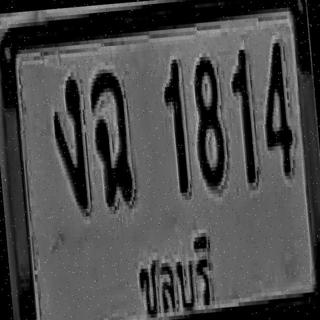A07: (50, 76, 90, 210)
A09: (88, 70, 135, 206)
N01: (228, 47, 258, 186), (160, 57, 190, 195)
N04: (257, 40, 295, 175)
N08: (189, 54, 227, 189)
P13: (130, 224, 221, 320)
